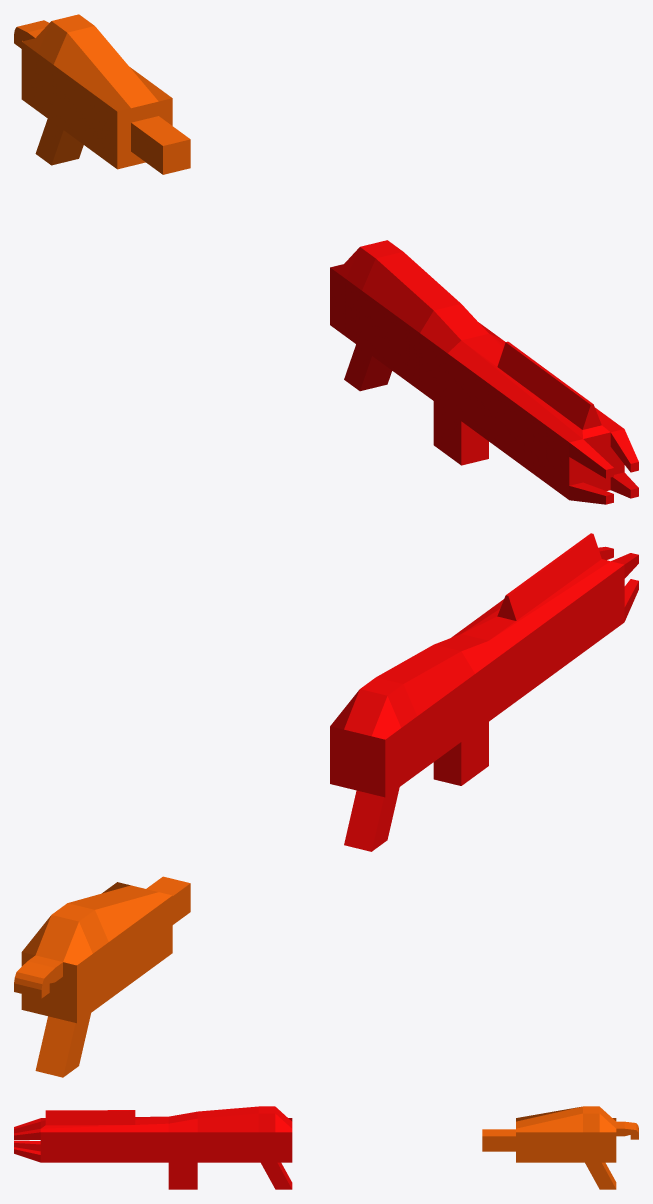
Rendered from Shotgun.fbx.
The picture shows the model from 3 angles, top to bottom: view 1: azimuth 30°, elevation 25°; view 2: azimuth 150°, elevation 25°; view 3: azimuth 270°, elevation 25°; orthographic projection. The views are drawn at different scales.
Visible parts, largest first — view 1: Cube.001, Cube; view 2: Cube.001, Cube; view 3: Cube.001, Cube.
Part boxes in pixels (left/top/right/bottom): Cube.001: left=330, top=240, right=638, bottom=504; Cube: left=14, top=14, right=190, bottom=174; Cube.001: left=330, top=533, right=638, bottom=851; Cube: left=14, top=876, right=190, bottom=1077; Cube.001: left=14, top=1106, right=292, bottom=1189; Cube: left=482, top=1106, right=638, bottom=1189.
Bounding box in the file's own units: 200 × 500 × 3730.
